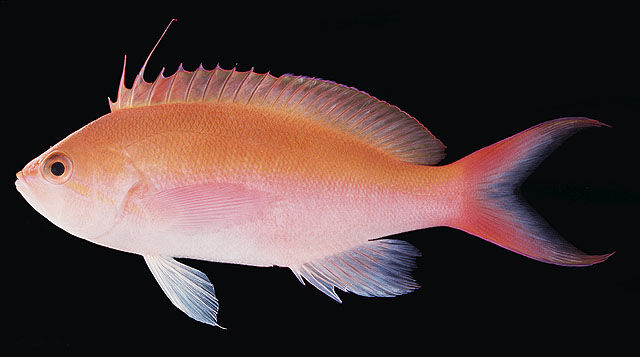fish: (15, 19, 615, 330)
